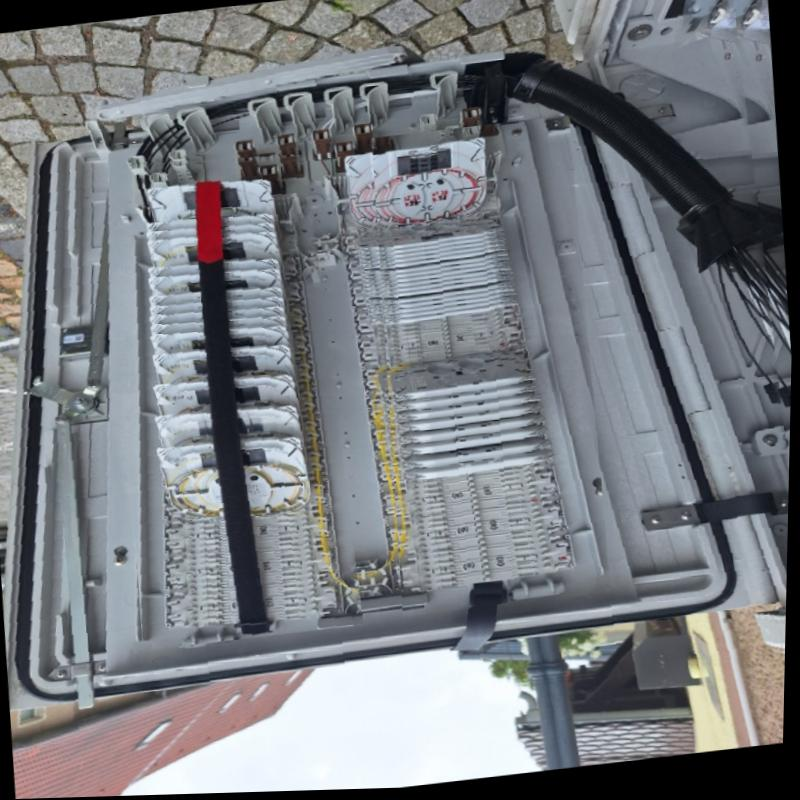NT-Gehause: (11, 0, 792, 710)
Spleiskassetten: (103, 139, 376, 653), (364, 116, 622, 620)
